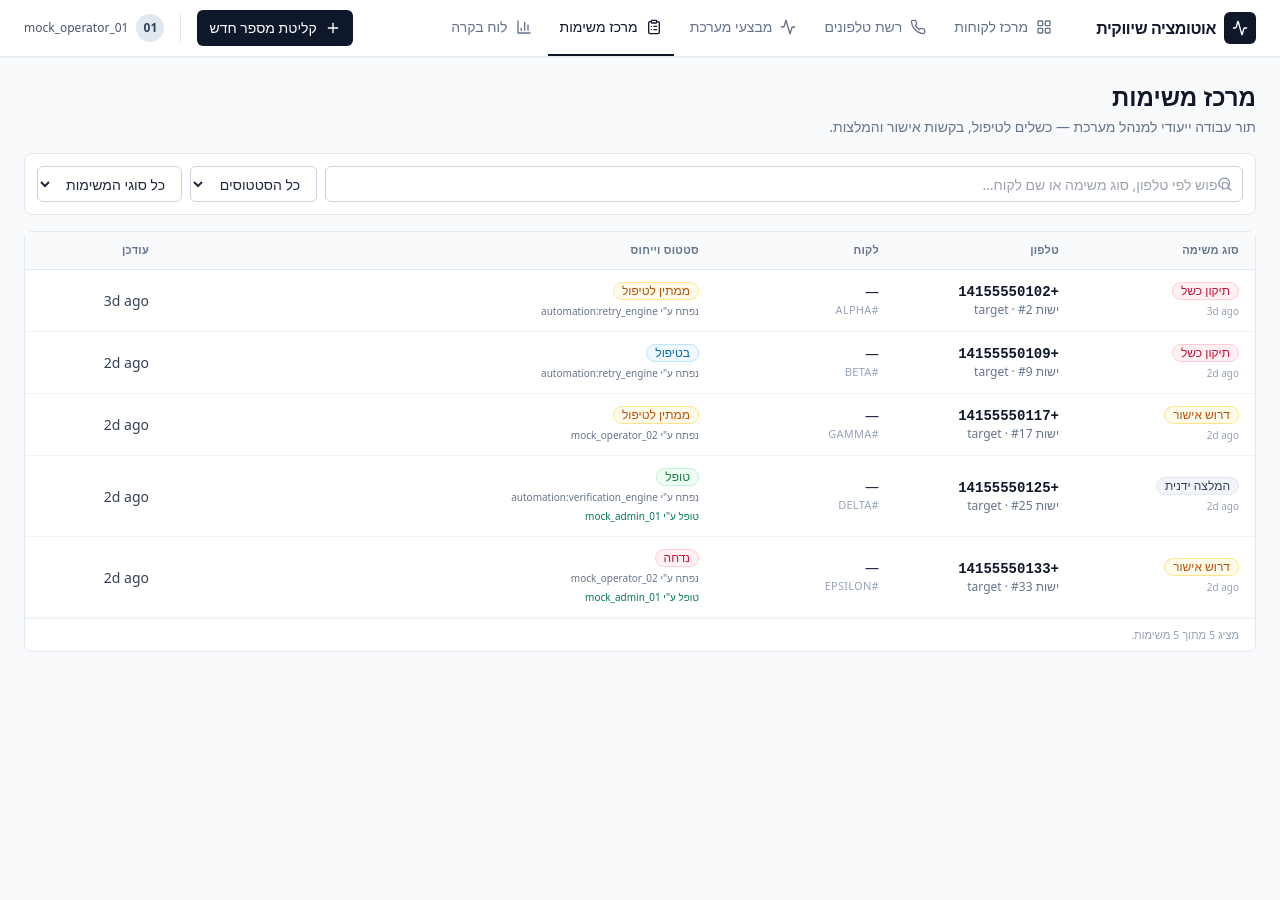
Test: Operations Queue — drawer + resolve flow › opens the drawer on row click and shows task details
Note: SEED_TASKS[0] is task #1, pending, phone +14155550102.
Click the text "+14155550102". click: [1009, 292]
box: x1=958 y1=284 x2=1059 y2=300
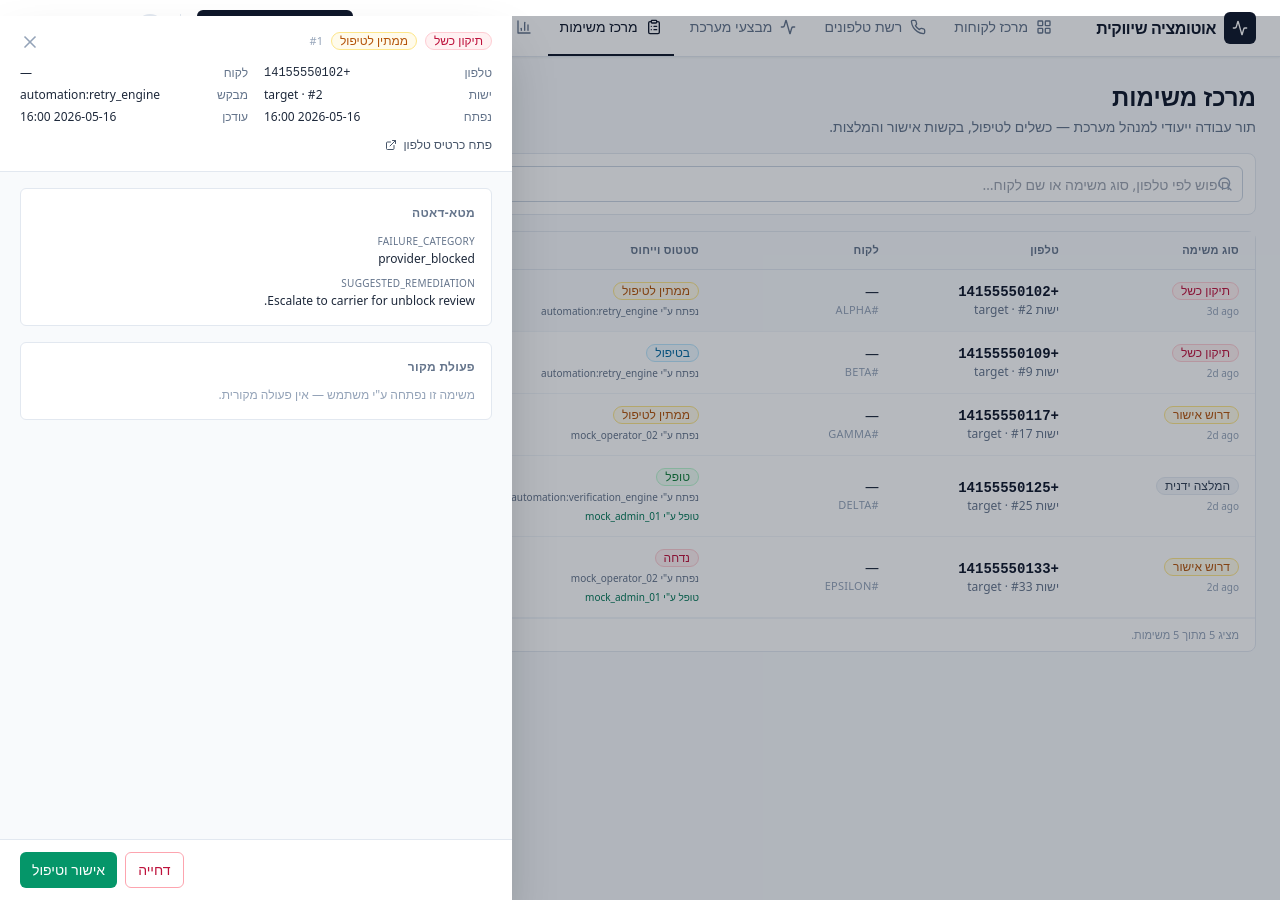
Expected: the text "תיקון כשל" is shown, x1=425 y1=32 x2=492 y2=50
Expected: the text "ממתין לטיפול" is shown, x1=331 y1=32 x2=417 y2=50
Expected: the button "אישור וטיפול" is shown, x1=20 y1=852 x2=117 y2=888
